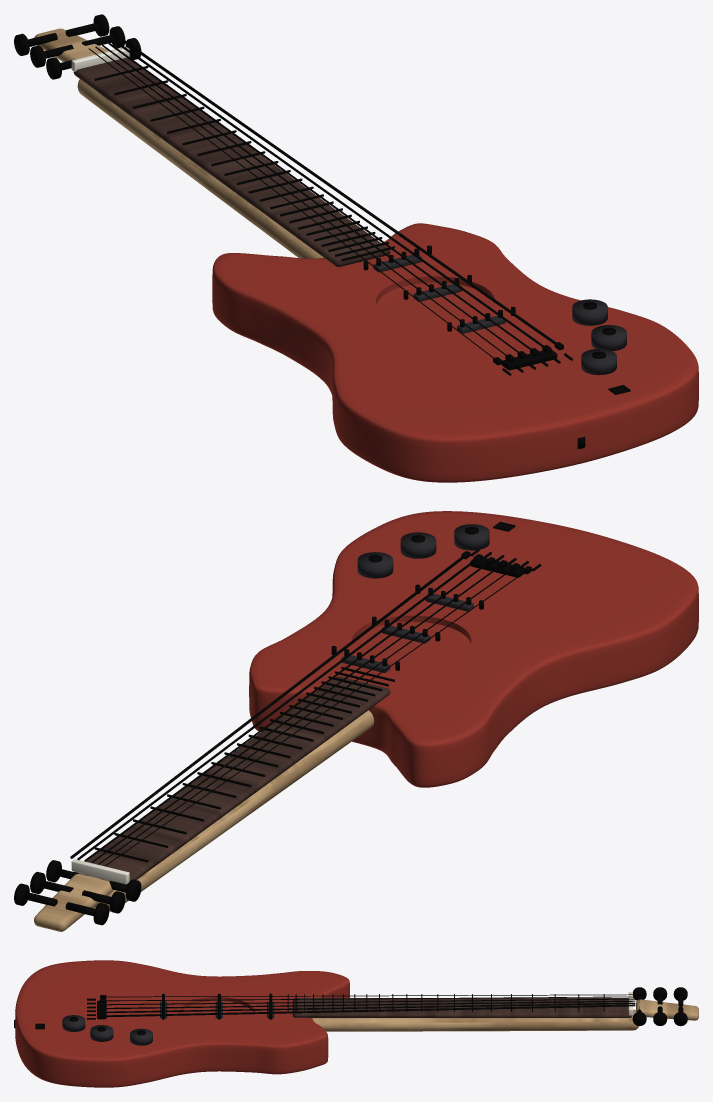
The model's file is exploded_guitar.glb.
3 views of the same model, one above another, from view 1: azimuth 30°, elevation 25°; view 2: azimuth 150°, elevation 25°; view 3: azimuth 270°, elevation 25° (orthographic). The views are drawn at different scales.
Visible parts, largest first — view 1: Body, Fretboard, Neck, String5, String4, String3, String2, Headstock, String1, Knob0, Knob2, String0 (+1 smaller); view 2: Body, Fretboard, Neck, Headstock, String5, String4, String3, String2, String1, Knob0, Knob1, String0 (+2 smaller); view 3: Body, Fretboard, Neck, String5, String4, String3, String2, Headstock, String1, String0, Knob2, Knob1 (+1 smaller).
Part boxes in pixels (x1=…): Body: x1=212, y1=223, x2=698, y2=482; Fretboard: x1=73, y1=57, x2=390, y2=266; Neck: x1=77, y1=79, x2=323, y2=258; String5: x1=121, y1=39, x2=556, y2=344; String4: x1=115, y1=41, x2=543, y2=346; String3: x1=108, y1=43, x2=530, y2=349; String2: x1=102, y1=44, x2=518, y2=352; Headstock: x1=34, y1=28, x2=108, y2=61; String1: x1=95, y1=46, x2=505, y2=355; Knob0: x1=572, y1=299, x2=607, y2=325; Knob2: x1=581, y1=348, x2=616, y2=375; String0: x1=88, y1=48, x2=493, y2=358; Body: x1=249, y1=511, x2=698, y2=787; Fretboard: x1=74, y1=676, x2=390, y2=884; Neck: x1=93, y1=710, x2=374, y2=911; Headstock: x1=34, y1=873, x2=113, y2=931; String5: x1=70, y1=555, x2=464, y2=858; String4: x1=77, y1=559, x2=476, y2=860; String3: x1=84, y1=562, x2=488, y2=861; String2: x1=91, y1=565, x2=500, y2=862; String1: x1=98, y1=568, x2=512, y2=864; Knob0: x1=357, y1=552, x2=393, y2=578; Knob1: x1=400, y1=532, x2=436, y2=558; String0: x1=105, y1=571, x2=525, y2=866; Body: x1=15, y1=960, x2=349, y2=1087; Fretboard: x1=292, y1=998, x2=631, y2=1017; Neck: x1=312, y1=1009, x2=638, y2=1031; String5: x1=106, y1=1004, x2=635, y2=1017; String4: x1=106, y1=1002, x2=635, y2=1013; String3: x1=106, y1=1000, x2=635, y2=1009; String2: x1=106, y1=998, x2=635, y2=1005; Headstock: x1=636, y1=999, x2=698, y2=1020; String1: x1=106, y1=996, x2=634, y2=1001; String0: x1=106, y1=994, x2=635, y2=997; Knob2: x1=62, y1=1015, x2=85, y2=1031; Knob1: x1=90, y1=1025, x2=113, y2=1041.
Size of the model in its own units: 0.3239 by 0.0633 by 0.9323.
9 materials, 9 textured.
